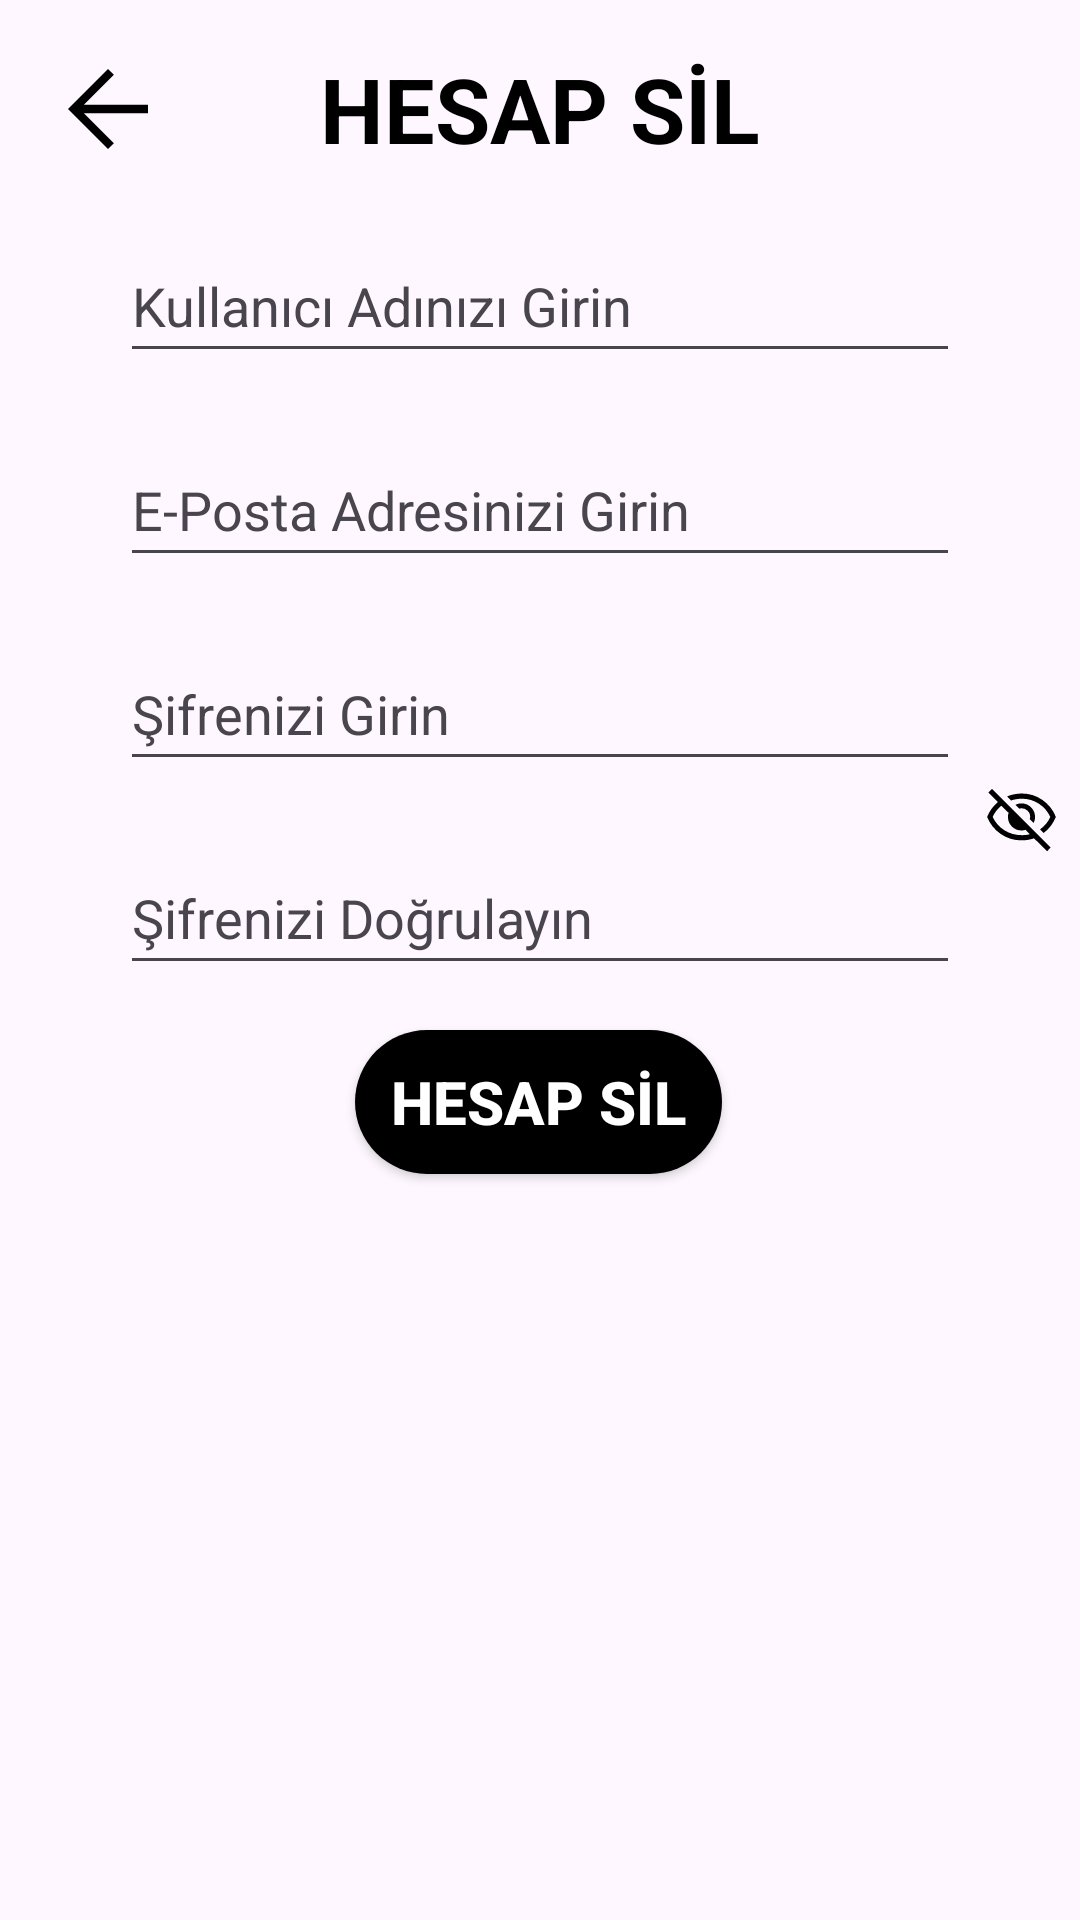

Named icons in this screenshot (1080 x 1920) and their bounding boxes, (x1, y1, x2, y2):
back: (68, 69, 148, 149)
visibility off: (987, 789, 1056, 851)
